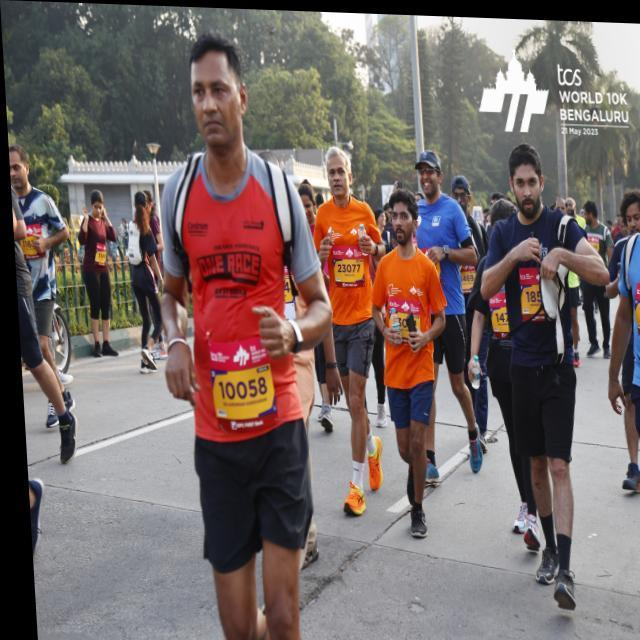dorsal: (205, 340, 272, 426), (326, 234, 366, 283)
